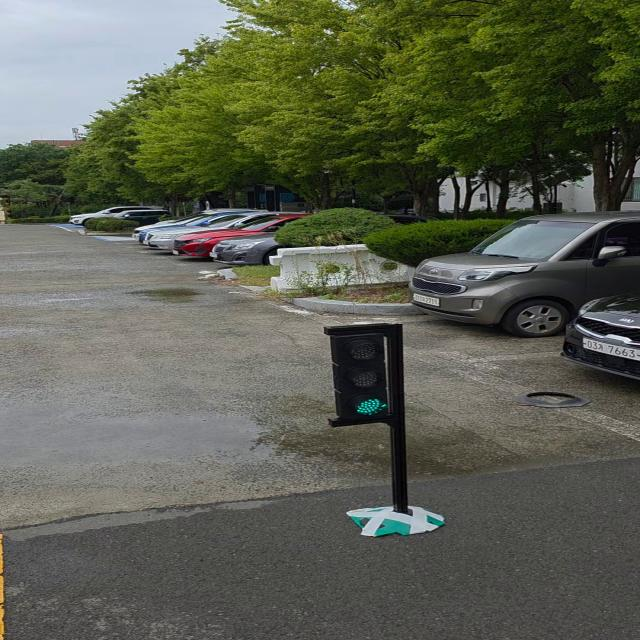green: (330, 330, 397, 425)
